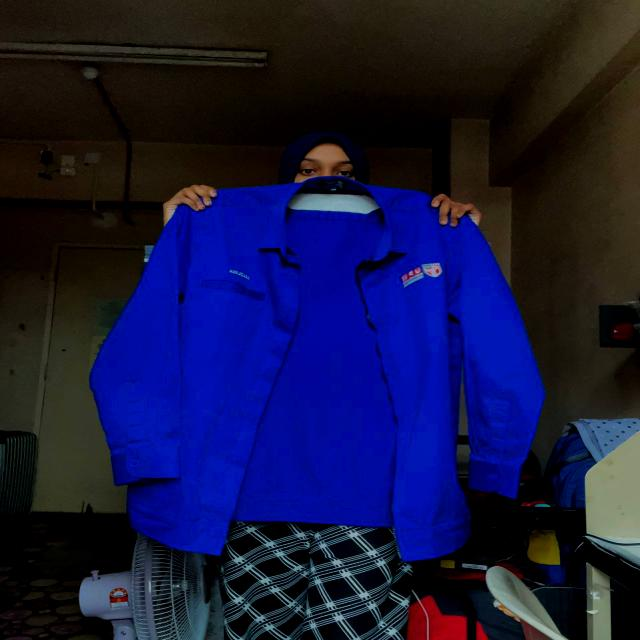person_without_labcoat: (91, 132, 543, 640)
